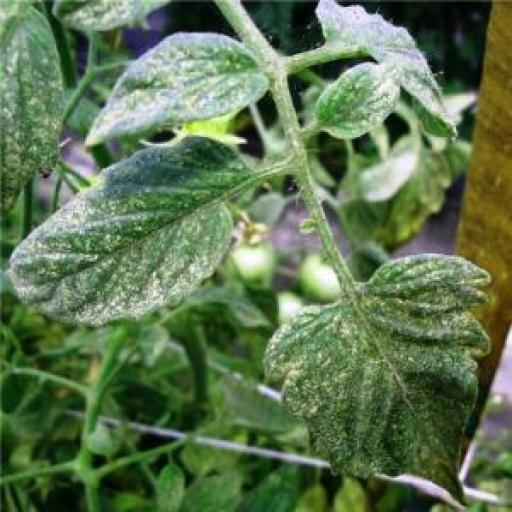Spider Mites: (260, 248, 494, 506), (6, 130, 258, 328), (80, 29, 271, 158), (310, 60, 402, 144)
